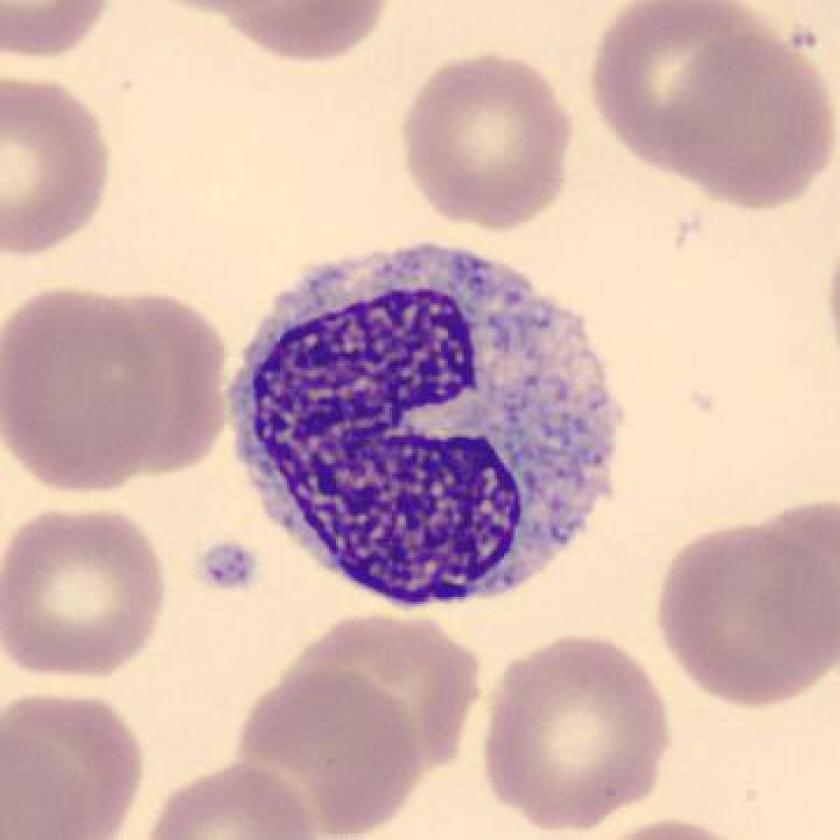monocyte: (211, 214, 654, 626)
